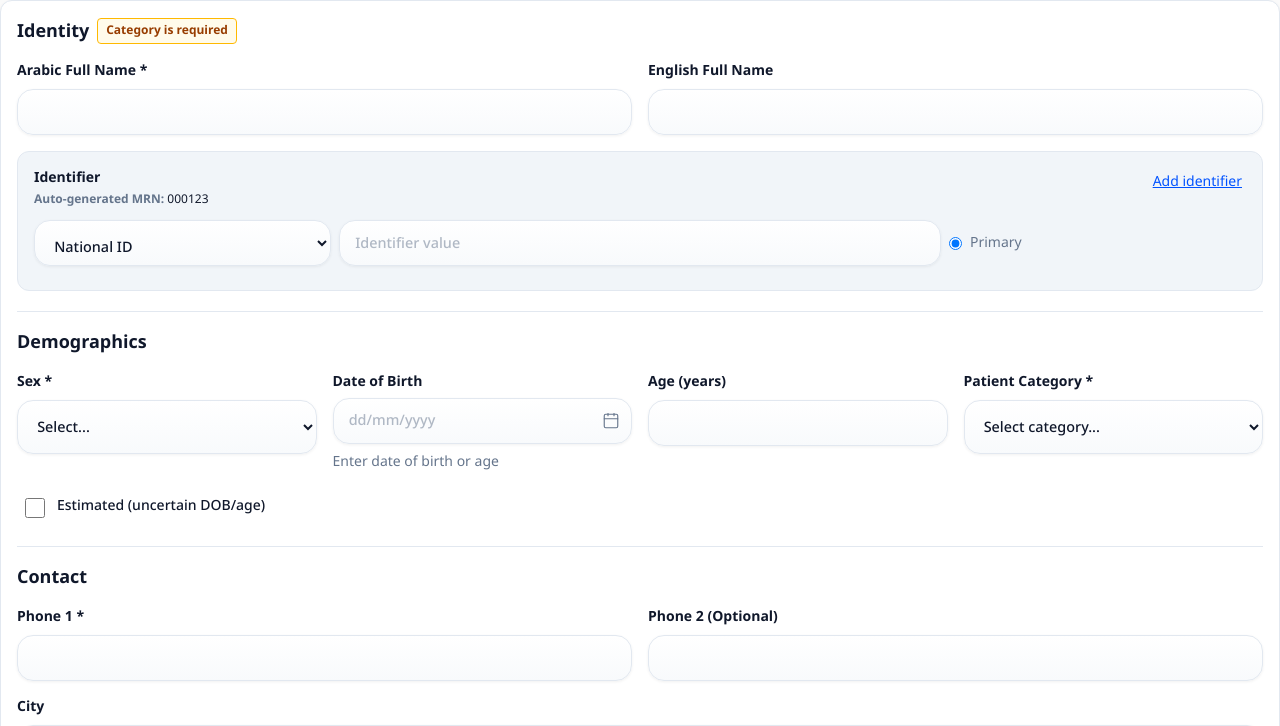
PatientForm workflow hardening › auto-derives sex and birth year when primary identifier is a valid national ID
Type "119900123456" into the field named "National ID" at (640, 243), box [339,220,941,266]
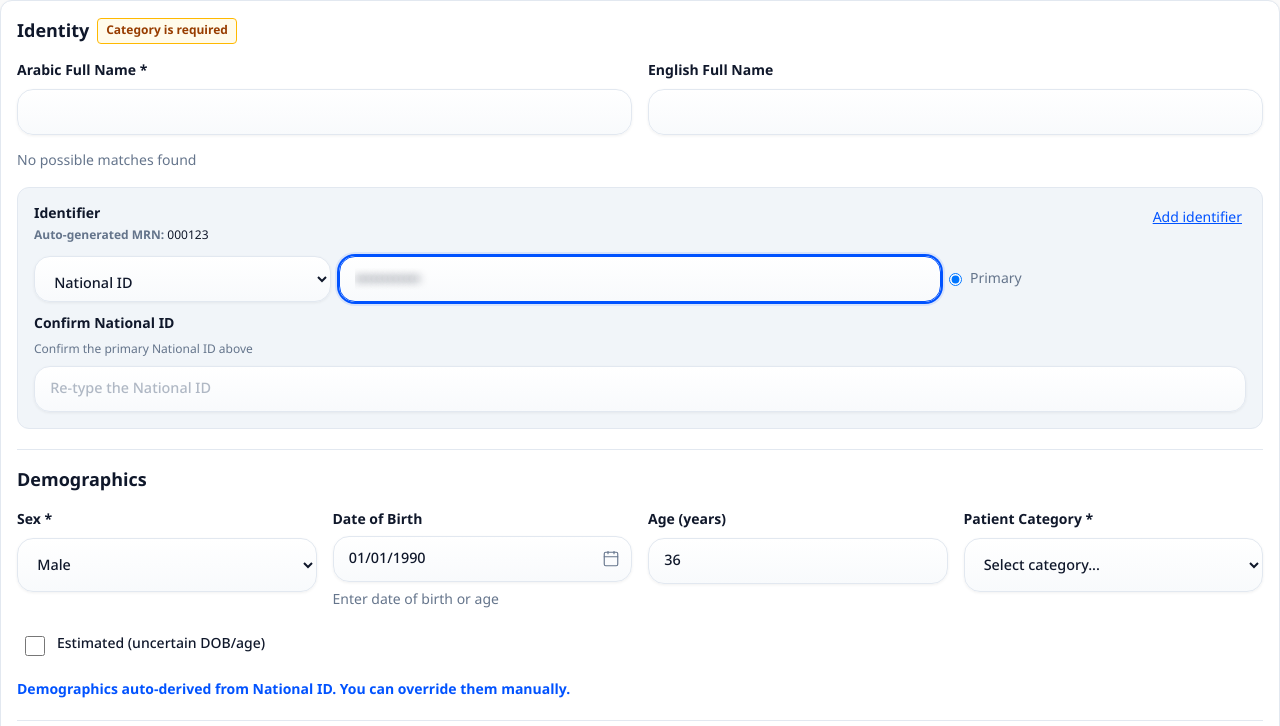
Expected: the dropdown named "Sex" shows "Male", [17,538,316,592]
Expected: the field with placeholder "dd/mm/yyyy" holds "01/01/1990", [332,536,632,582]
